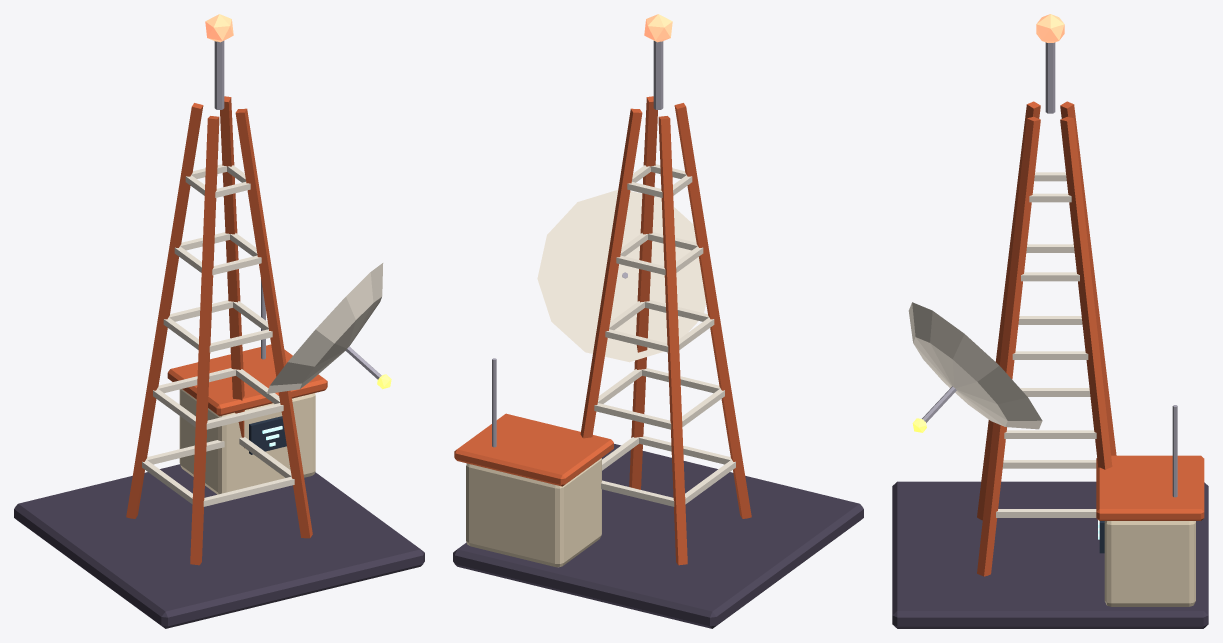
Rendered from MOONSHIFT_FAC_Radio_Station.glb.
3 views of the same model, side by side, from view 1: azimuth 30°, elevation 25°; view 2: azimuth 150°, elevation 25°; view 3: azimuth 270°, elevation 25° (orthographic). The views are drawn at different scales.
Parts seen in each view (by area): view 1: RadioSt_Slab, RadioSt_Hut, RadioSt_Leg0, RadioSt_Leg1, RadioSt_Leg3, RadioSt_Dish, RadioSt_HutRoof, RadioSt_Leg2, RadioSt_HutPanel, RadioSt_Brace00, RadioSt_TopMast, RadioSt_Brace10 (+6 smaller); view 2: RadioSt_Slab, RadioSt_Dish, RadioSt_Hut, RadioSt_HutRoof, RadioSt_Leg3, RadioSt_Leg0, RadioSt_Leg2, RadioSt_Leg1, RadioSt_Brace00, RadioSt_TopMast, RadioSt_Brace12, RadioSt_Brace02 (+4 smaller); view 3: RadioSt_Slab, RadioSt_Hut, RadioSt_Dish, RadioSt_HutRoof, RadioSt_Leg1, RadioSt_Leg2, RadioSt_Leg0, RadioSt_Leg3, RadioSt_Brace01, RadioSt_Brace03, RadioSt_Brace11, RadioSt_TopMast (+6 smaller).
Boxes of the visible parts, x1,y1,x2,y2 form: RadioSt_Slab: (14,464,424,628); RadioSt_Hut: (179,389,315,494); RadioSt_Leg0: (190,116,219,565); RadioSt_Leg1: (235,108,312,538); RadioSt_Leg3: (126,103,203,518); RadioSt_Dish: (266,263,383,393); RadioSt_HutRoof: (167,344,327,416); RadioSt_Leg2: (220,96,244,448); RadioSt_HutPanel: (249,416,286,454); RadioSt_Brace00: (203,476,294,506); RadioSt_TopMast: (214,41,224,109); RadioSt_Brace10: (206,403,283,429); RadioSt_Slab: (453,444,863,628); RadioSt_Dish: (537,190,712,362); RadioSt_Hut: (466,458,601,567); RadioSt_HutRoof: (454,413,613,486); RadioSt_Leg3: (658,116,687,565); RadioSt_Leg0: (674,103,751,518); RadioSt_Leg2: (580,108,642,438); RadioSt_Leg1: (629,96,657,489); RadioSt_Brace00: (639,436,731,464); RadioSt_TopMast: (653,41,663,109); RadioSt_Brace12: (594,403,671,429); RadioSt_Brace02: (601,480,674,506); RadioSt_Slab: (892,481,1208,628); RadioSt_Hut: (1104,521,1195,606); RadioSt_Dish: (908,302,1042,429); RadioSt_HutRoof: (1096,455,1204,520); RadioSt_Leg1: (977,116,1040,576); RadioSt_Leg2: (1060,116,1112,469); RadioSt_Leg0: (977,101,1040,520); RadioSt_Leg3: (1060,101,1116,455); RadioSt_Brace01: (996,509,1096,517); RadioSt_Brace03: (1002,460,1096,468); RadioSt_Brace11: (1004,430,1096,438); RadioSt_TopMast: (1045,42,1055,113).
Bounding box in the file's own units: 1.93 × 3.65 × 1.9.
